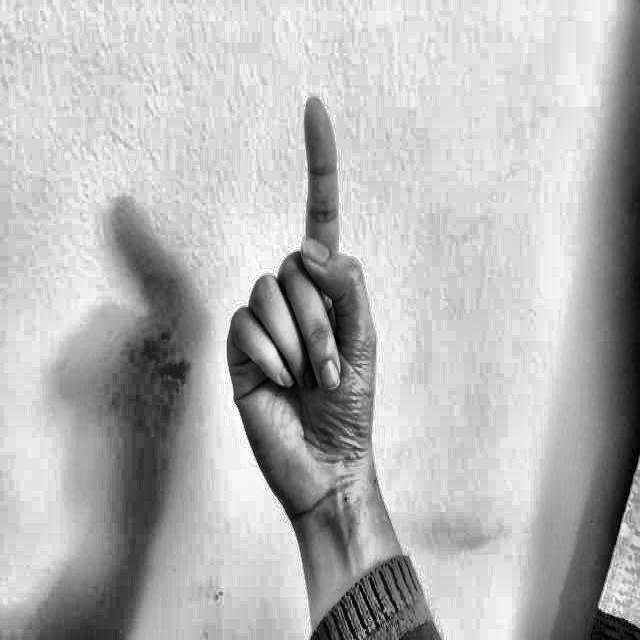U: (199, 60, 412, 543)
